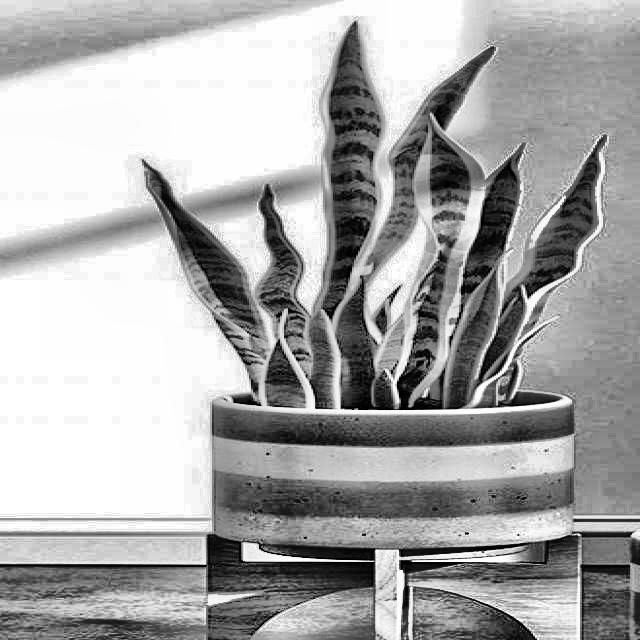plants: (140, 28, 582, 541)
